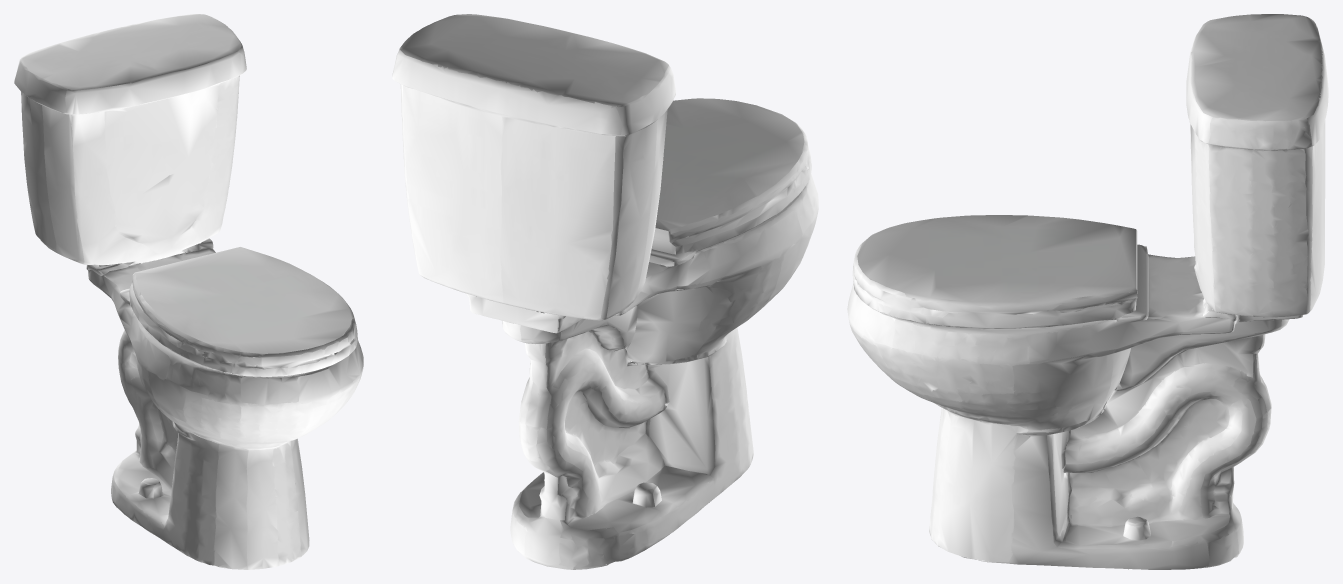
The model's file is toilet.glb.
3 renders of one model, left to right at view 1: azimuth 30°, elevation 25°; view 2: azimuth 150°, elevation 25°; view 3: azimuth 270°, elevation 25°, orthographic. The views are drawn at different scales.
Visible parts, largest first — view 1: geometry_0; view 2: geometry_0; view 3: geometry_0.
Boxes of the visible parts, x1,y1,x2,y2 form: geometry_0: (14, 14, 363, 569); geometry_0: (392, 14, 818, 569); geometry_0: (847, 14, 1328, 569).
Bounding box in the file's own units: 0.505 × 1 × 0.9085.
1 material, 1 textured.
